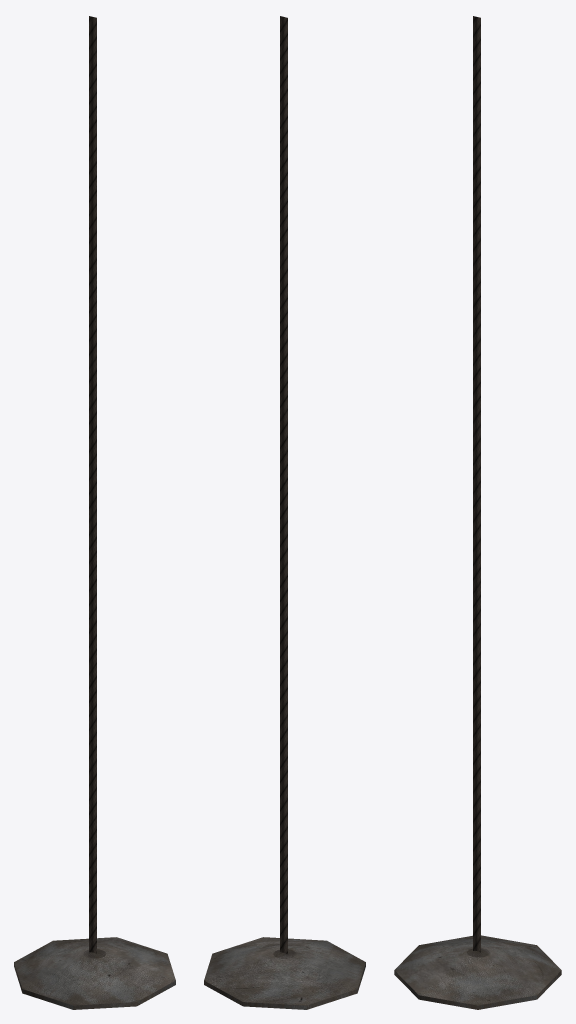
Rendered from lamp_2.glb.
The picture shows the model from 3 angles, left to right: view 1: azimuth 30°, elevation 25°; view 2: azimuth 150°, elevation 25°; view 3: azimuth 270°, elevation 25°; orthographic projection.
Parts seen in each view (by area): view 1: metal_rusted_circle.jpg__, rope.jpg__, metal_rusted.jpg__; view 2: metal_rusted_circle.jpg__, rope.jpg__, metal_rusted.jpg__; view 3: metal_rusted_circle.jpg__, rope.jpg__, metal_rusted.jpg__.
Boxes of the visible parts, bbox=[...] form: metal_rusted_circle.jpg__: bbox=[14, 937, 175, 1005]; rope.jpg__: bbox=[89, 16, 96, 953]; metal_rusted.jpg__: bbox=[14, 963, 175, 1009]; metal_rusted_circle.jpg__: bbox=[204, 937, 365, 1005]; rope.jpg__: bbox=[280, 16, 287, 954]; metal_rusted.jpg__: bbox=[204, 963, 365, 1009]; metal_rusted_circle.jpg__: bbox=[394, 935, 561, 1005]; rope.jpg__: bbox=[473, 16, 480, 952]; metal_rusted.jpg__: bbox=[394, 970, 561, 1009].
Size of the model in its own units: 1.55 by 10.06 by 1.55.
6 materials, 6 textured.
